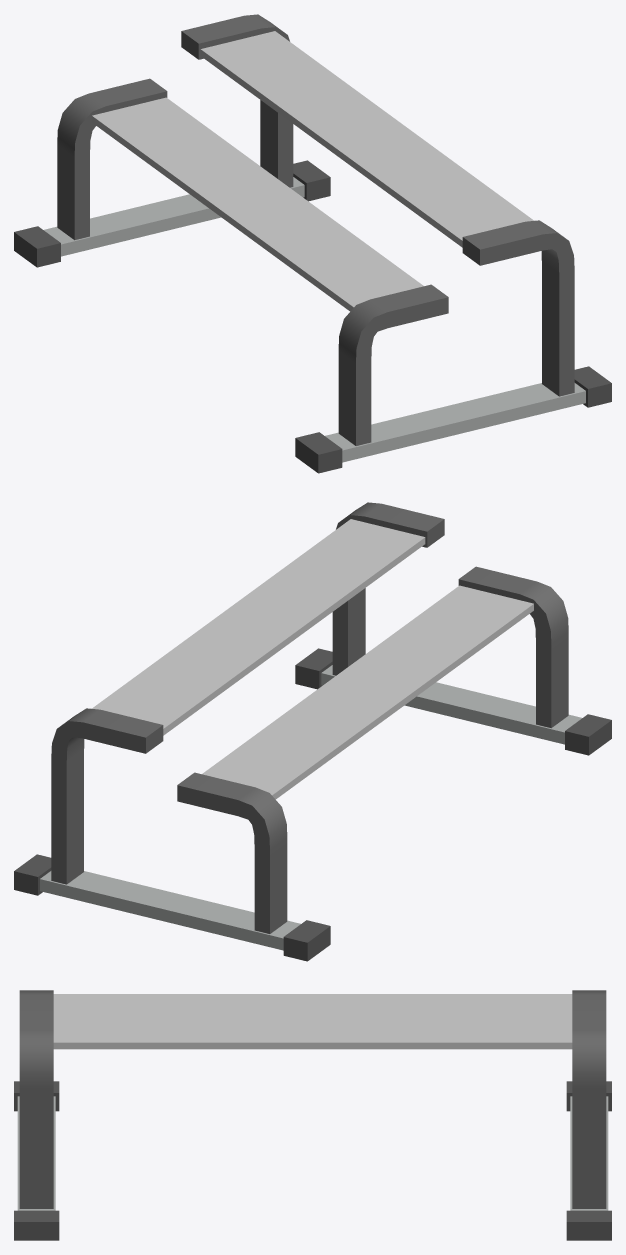
The model's file is Bench 01.fbx.
The picture shows the model from 3 angles, top to bottom: view 1: azimuth 30°, elevation 25°; view 2: azimuth 150°, elevation 25°; view 3: azimuth 270°, elevation 25°; orthographic projection.
Parts seen in each view (by area): view 1: Bench_01; view 2: Bench_01; view 3: Bench_01.
Part boxes in pixels (left/top/right/bottom): Bench_01: left=14, top=14, right=611, bottom=473; Bench_01: left=14, top=502, right=611, bottom=961; Bench_01: left=14, top=990, right=611, bottom=1240.
Size of the model in its own units: 4.1 by 2.43 by 7.37.
